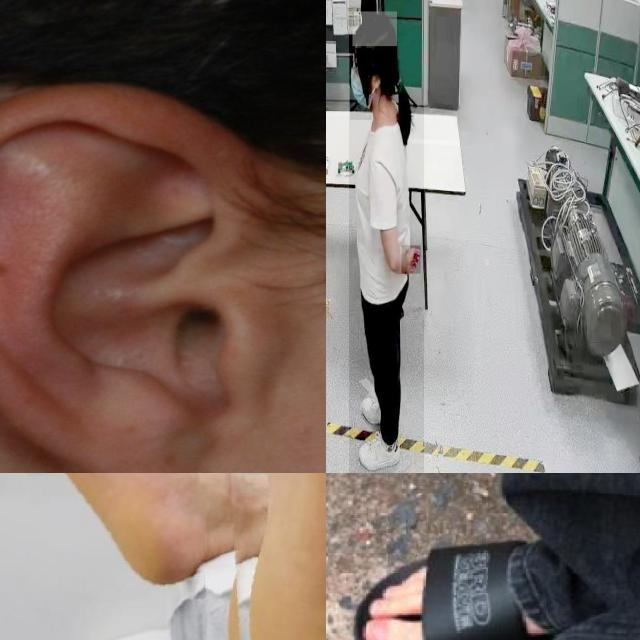Barefoots: (73, 473, 219, 597), (250, 473, 326, 640)
No_Ear-Protection: (0, 79, 283, 473)
Sandals: (338, 529, 612, 640)
face_mask: (350, 48, 372, 120)
hand_noglove: (401, 245, 421, 275)
head_nohelmet: (352, 11, 398, 47)
person: (349, 0, 424, 473)
shoes: (354, 428, 403, 473), (358, 394, 404, 432)
